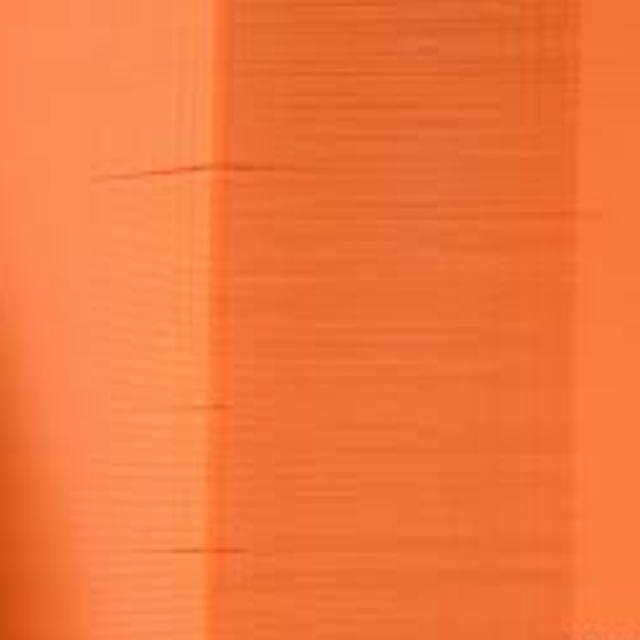Warping: (99, 159, 283, 190), (139, 538, 258, 562)
